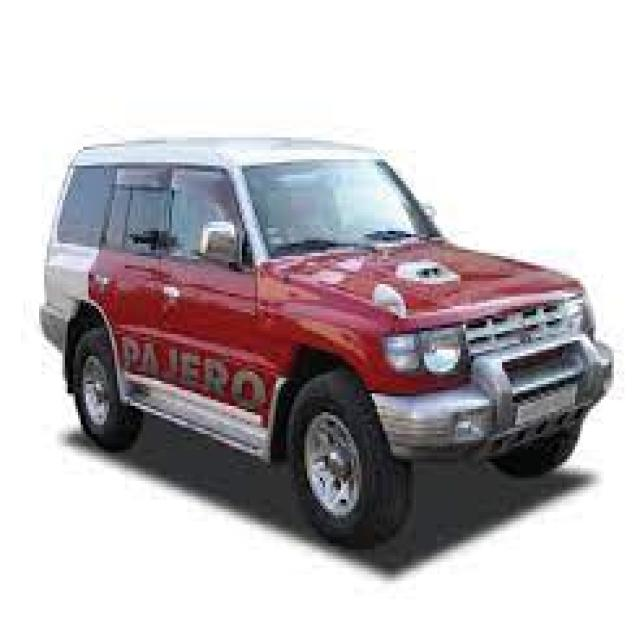light_vehicle: (40, 130, 613, 551)
